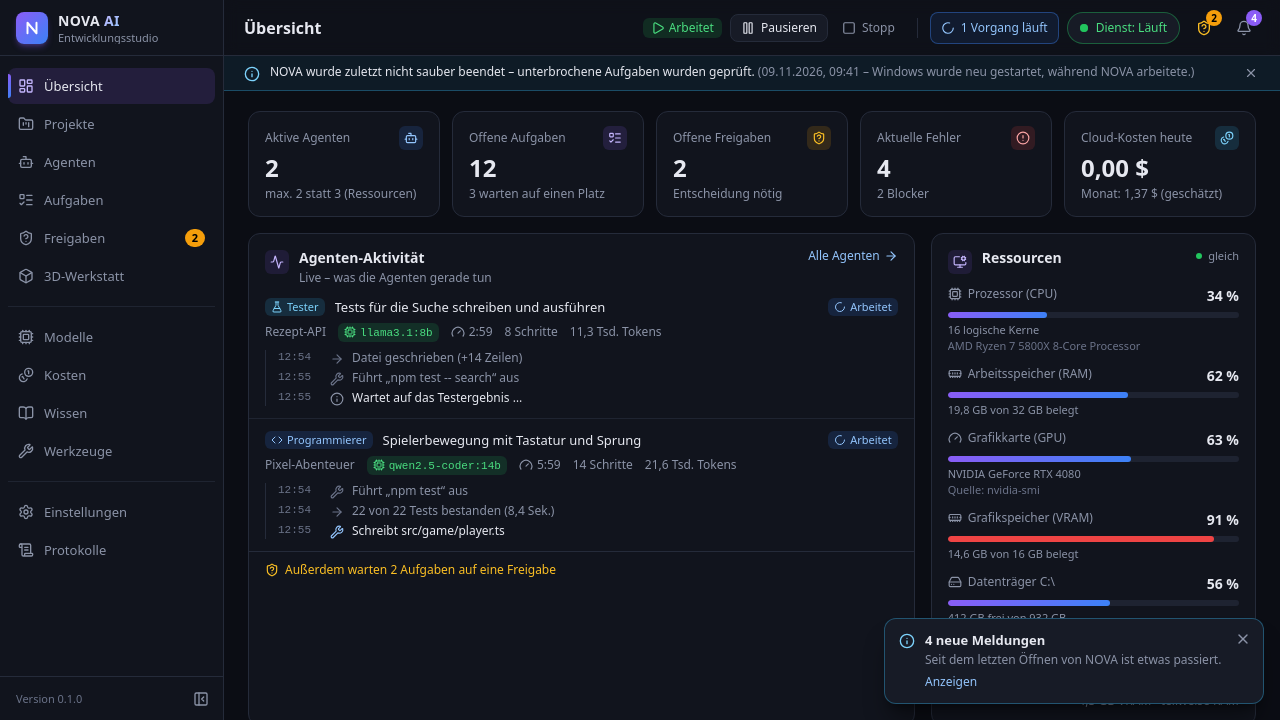
it: AppShell › navigates via the sidebar and lazy-loads pages
Click the link "Projekte". click: x=56, y=124
box: [18,115,94,133]
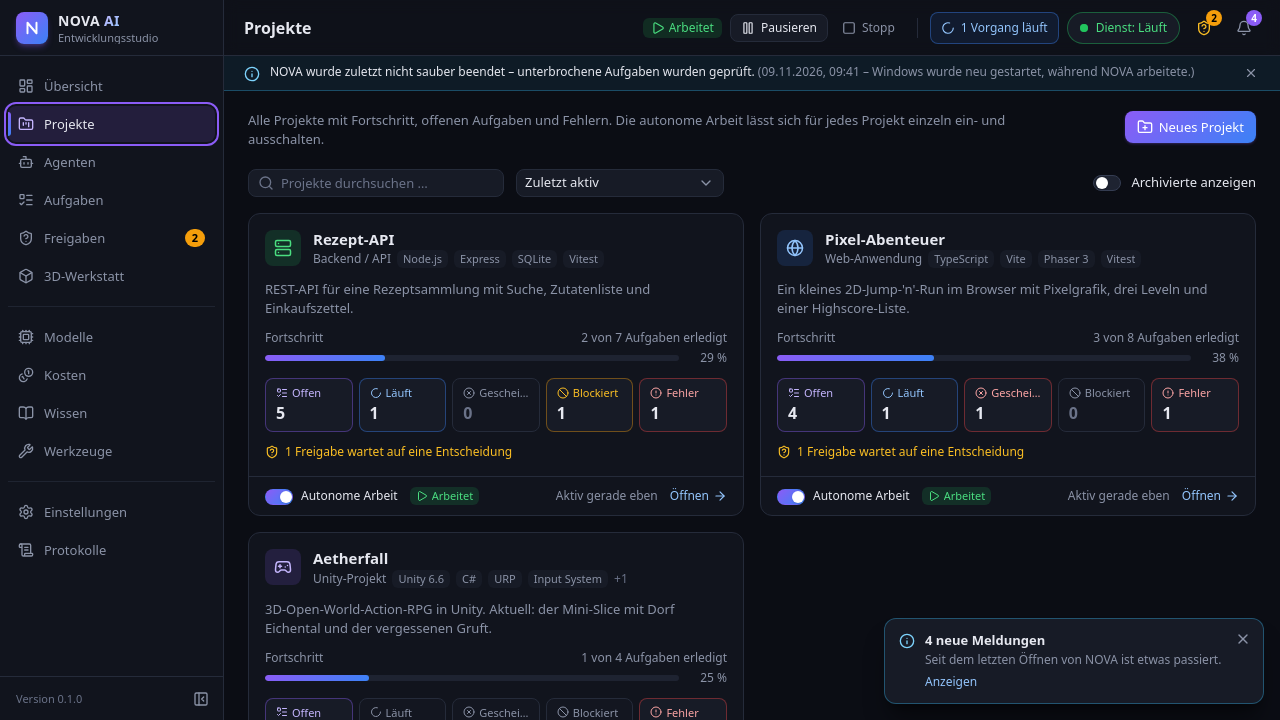
Expected: the element "Pixel-Abenteuer" is shown, [760,213,1256,516]
Expected: the heading "Projekte" is shown, [244,16,312,40]
Click the link "Freigaben 2". click: x=75, y=238
box: [18,229,205,247]
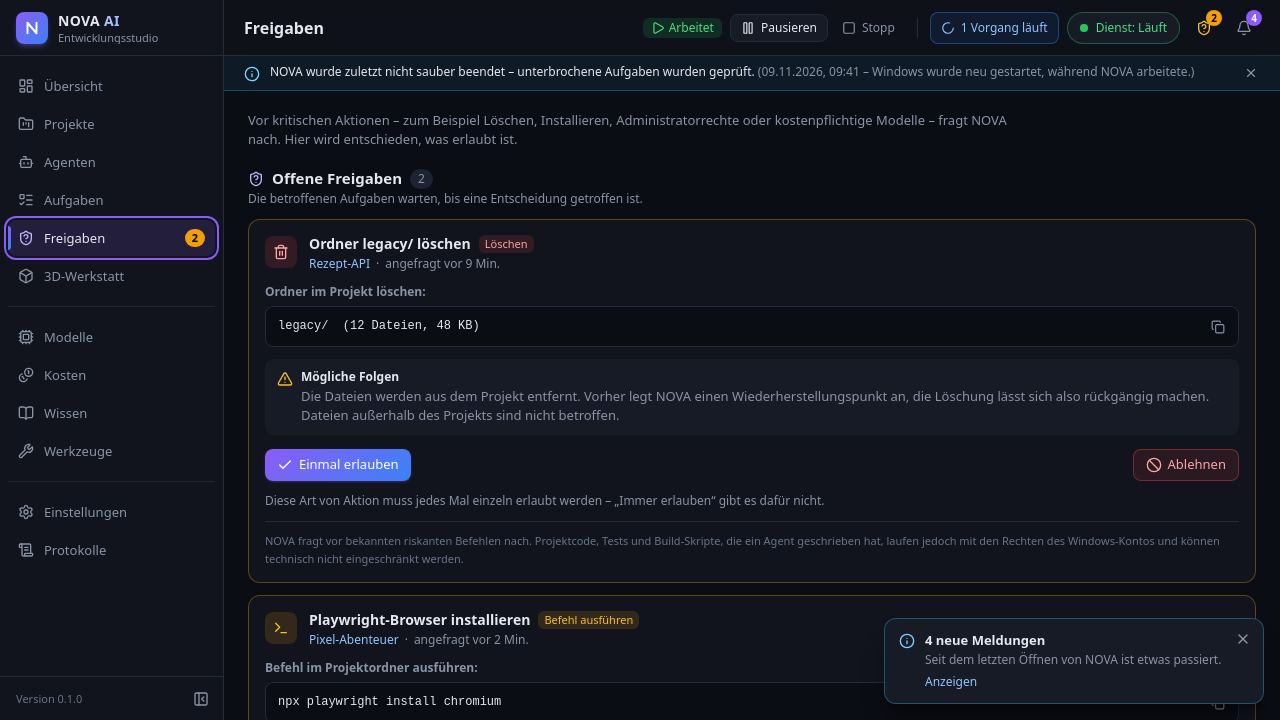
Expected: the text "Offene Freigaben" is shown, [272,169,402,188]
